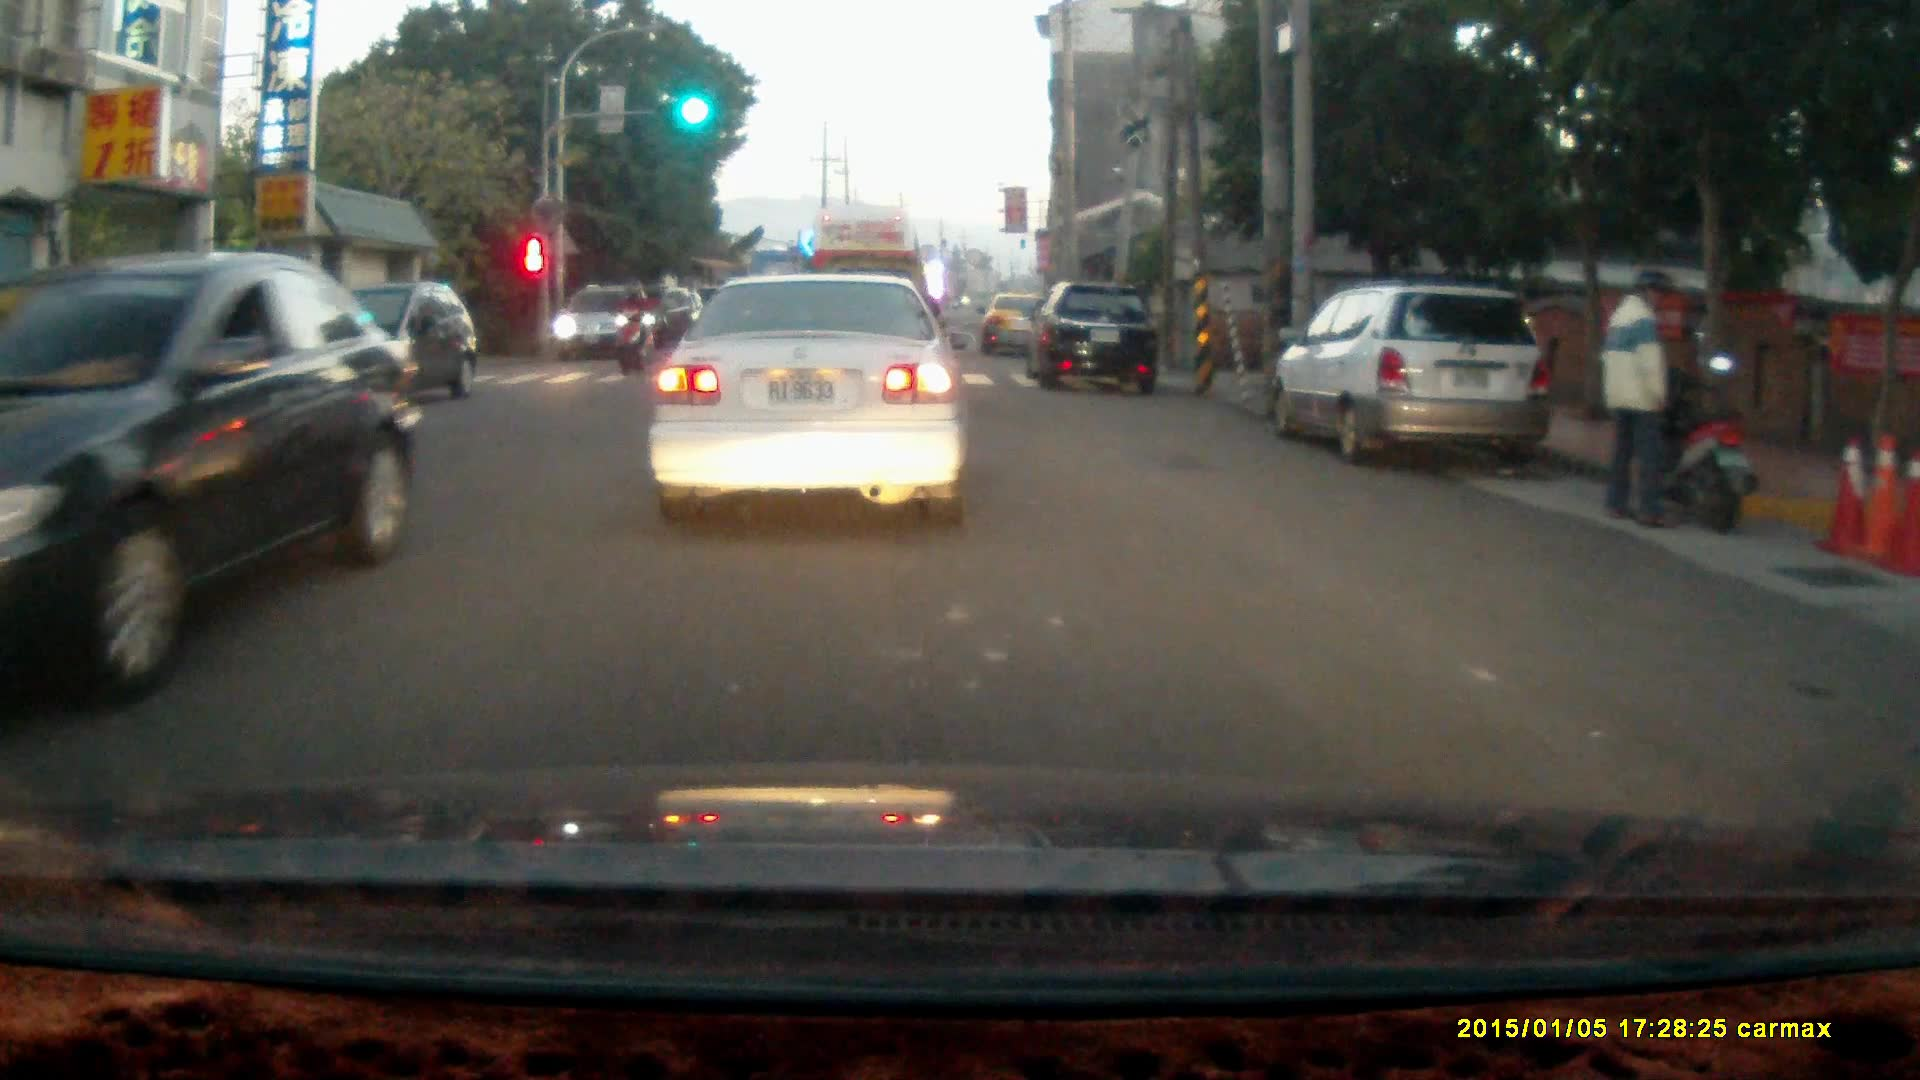pedestrian: (1593, 269, 1676, 530)
rider: (610, 277, 650, 373)
vehicle: (1, 250, 433, 719), (647, 272, 968, 525), (1284, 284, 1554, 472), (810, 204, 931, 366), (1028, 279, 1168, 393), (555, 282, 657, 356), (976, 292, 1070, 363)
